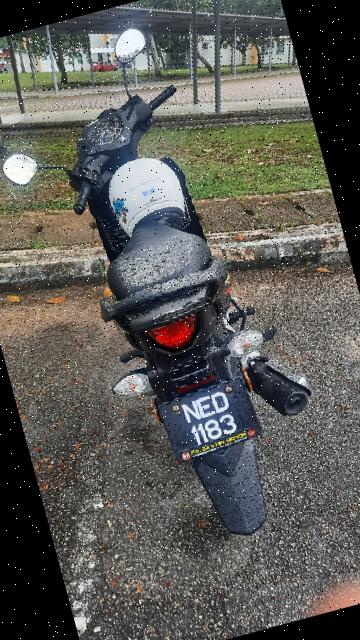License_Plate: (150, 374, 271, 475)
motorcycle: (1, 1, 355, 584)
